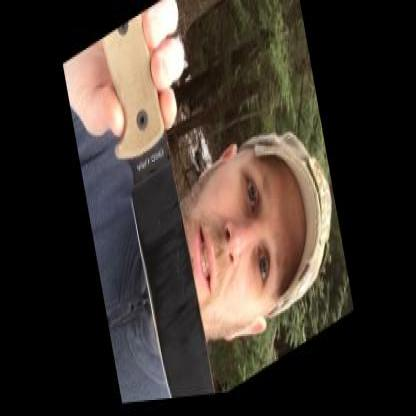knife: (94, 0, 245, 407)
